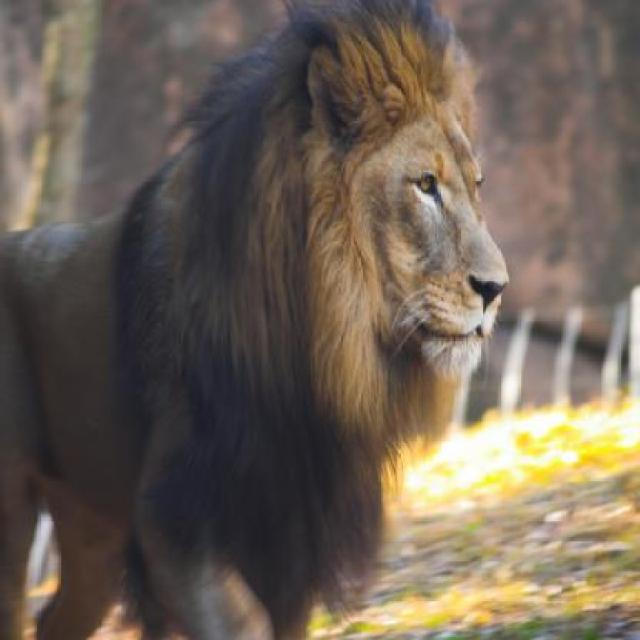Lion: (0, 3, 508, 639)
